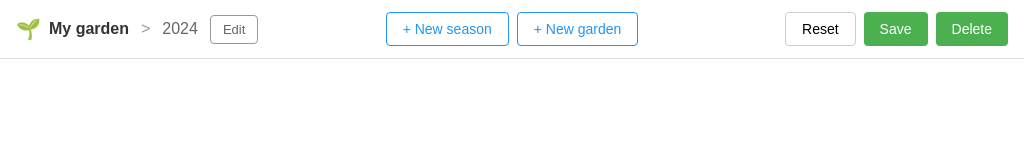
PlannerHeader › user enters edit mode
Click the button "Edit" at {"x": 234, "y": 29}, box left=210, top=14, right=258, bottom=44
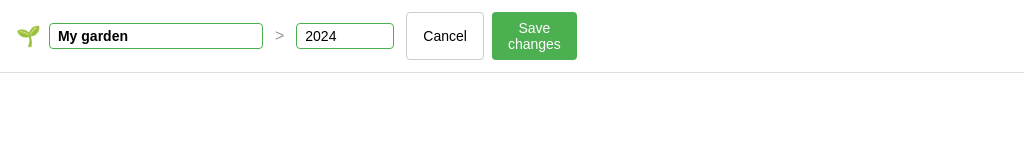
Expected: the field with placeholder "Garden name" is shown, left=49, top=23, right=263, bottom=49
Expected: the button "Cancel" is shown, left=406, top=12, right=484, bottom=60
Expected: the button "Save changes" is shown, left=492, top=12, right=577, bottom=60
